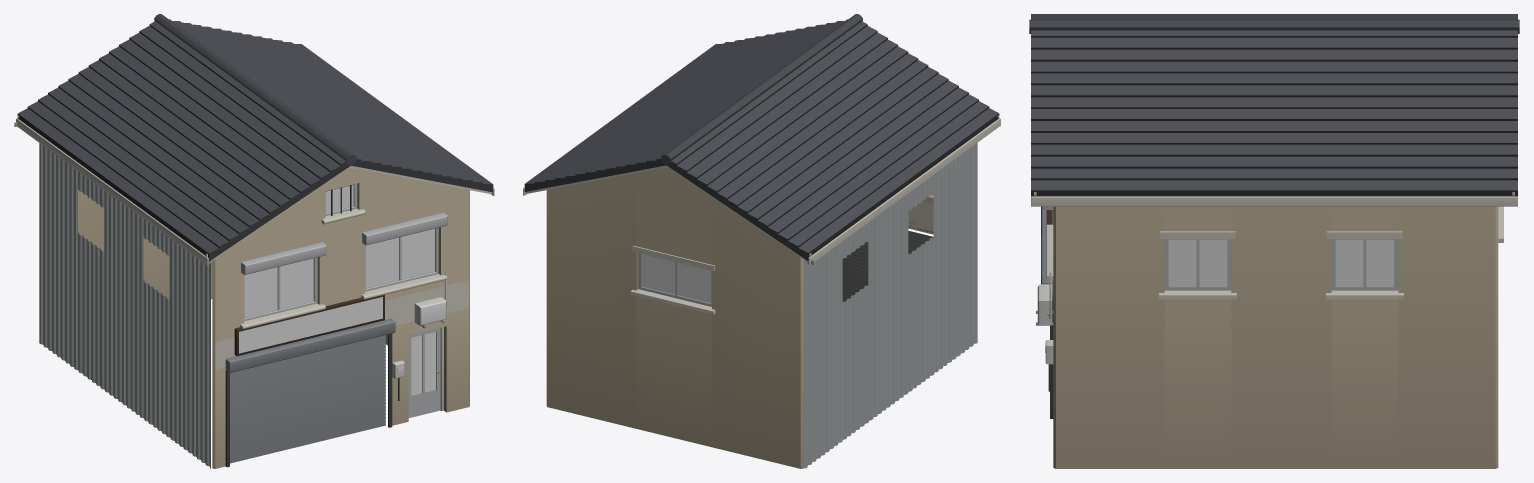
Rendered from RiceShopKM.fbx.
3 renders of one model, left to right at view 1: azimuth 30°, elevation 25°; view 2: azimuth 150°, elevation 25°; view 3: azimuth 270°, elevation 25°, orthographic. The views are drawn at different scales.
Visible parts, largest first — view 1: RiceShopKM; view 2: RiceShopKM; view 3: RiceShopKM.
Boxes of the visible parts, left/top/right/bottom form: RiceShopKM: left=14, top=14, right=494, bottom=468; RiceShopKM: left=523, top=14, right=1000, bottom=468; RiceShopKM: left=1029, top=14, right=1519, bottom=468.
Size of the model in its own units: 7.66 by 7.31 by 8.81.
